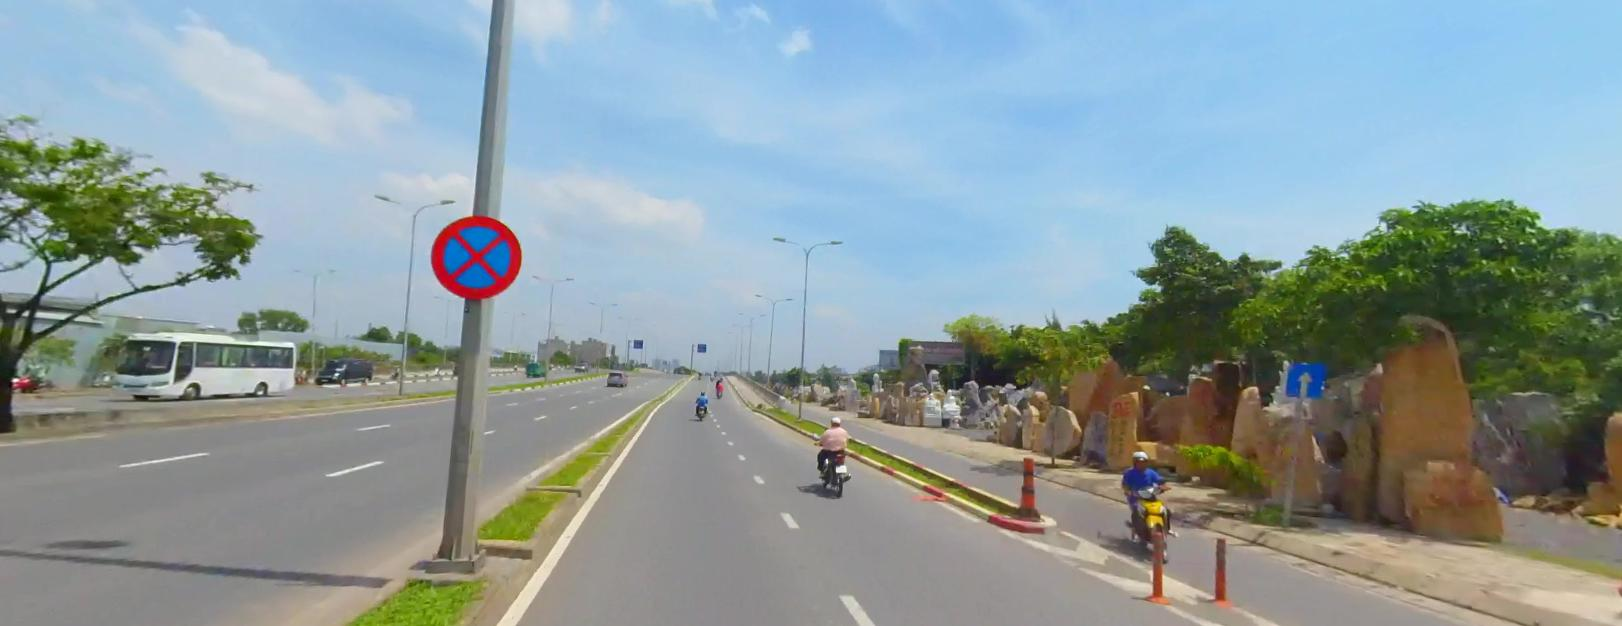Cam dung va do: (429, 212, 523, 297)
